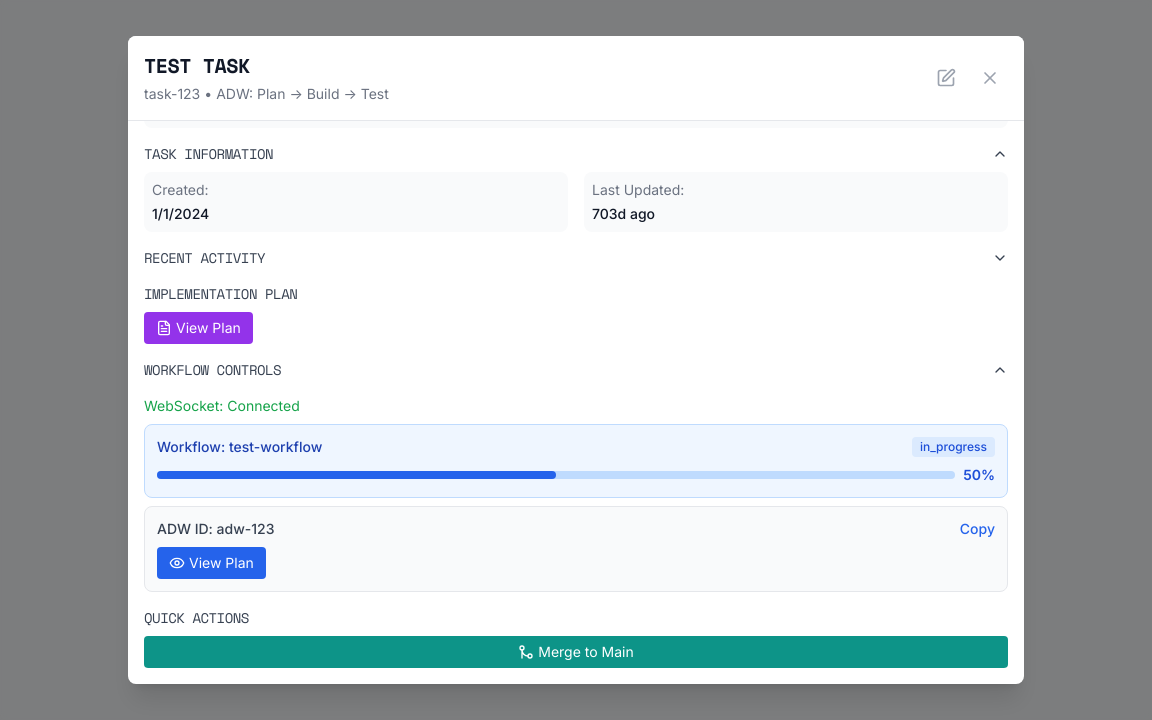
Test case: TaskDetailsModal Component › Merge Workflow › should handle merge error and show toast
The width and height of the screenshot is (1152, 720).
(page scrolled)
Click the button "Merge to Main". click: (576, 652)
box: [144, 636, 1008, 668]
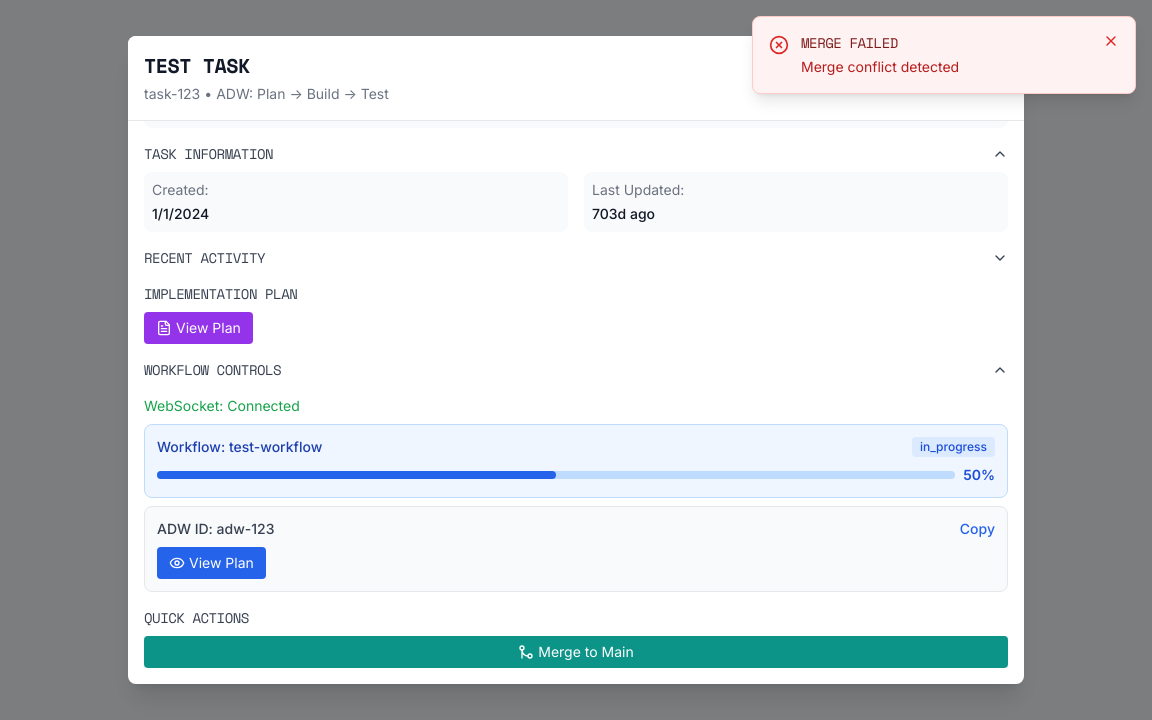
Expected: the heading "Merge Failed" is shown, [801, 32, 898, 53]
